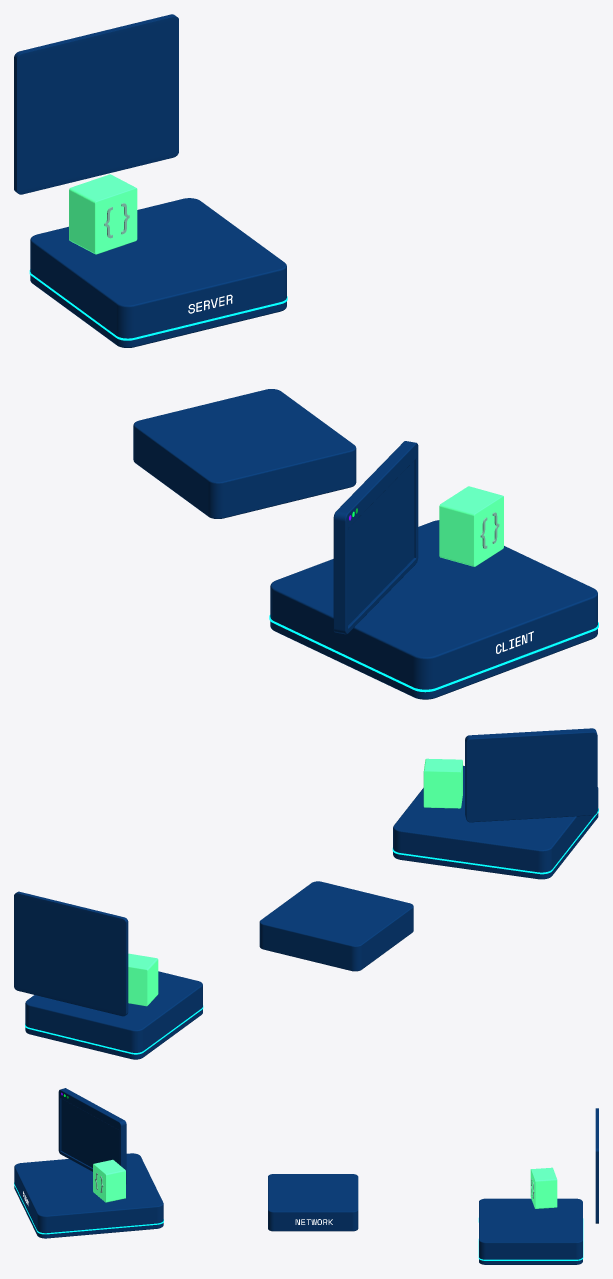
Rendered from json_flow.glb.
3 renders of one model, top to bottom at view 1: azimuth 30°, elevation 25°; view 2: azimuth 150°, elevation 25°; view 3: azimuth 270°, elevation 25°, orthographic. The views are drawn at different scales.
Parts seen in each view (by area): view 1: ClientPlatform, ServerPlatform, ServerScreen, NetworkPlatform, ScreenJson, ServerGreenJson, GreenJson, ClientGlowLine; view 2: ScreenJson, ServerScreen, ClientPlatform, NetworkPlatform, ServerPlatform, GreenJson, ServerGreenJson, ClientGlowLine; view 3: ClientPlatform, ServerPlatform, NetworkPlatform, ScreenJson, GreenJson, ServerGreenJson, ServerScreen, ClientGlowLine, ServerGlowLine.
Part boxes in pixels (x1,y1,x2,y2): ClientPlatform: (270,520,597,699); ServerPlatform: (30,198,286,347); ServerScreen: (14,14,178,194); NetworkPlatform: (133,389,356,518); ScreenJson: (333,441,418,634); ServerGreenJson: (69,174,137,254); GreenJson: (439,486,503,566); ClientGlowLine: (269,615,598,692); ScreenJson: (465,728,597,822); ServerScreen: (14,891,128,1016); ClientPlatform: (393,765,598,879); NetworkPlatform: (259,881,413,971); ServerPlatform: (25,971,202,1059); GreenJson: (423,758,462,808); ServerGreenJson: (128,953,158,1006); ClientGlowLine: (392,808,598,874); ClientPlatform: (14,1153,163,1238); ServerPlatform: (479,1198,582,1264); NetworkPlatform: (268,1174,358,1231); ScreenJson: (58,1088,126,1183); GreenJson: (93,1159,125,1202); ServerGreenJson: (530,1167,557,1208); ServerScreen: (595,1108,598,1223); ClientGlowLine: (14,1182,163,1234); ServerGlowLine: (478,1218,583,1260).
Size of the model in its own units: 3.31 by 1.96 by 9.06.
